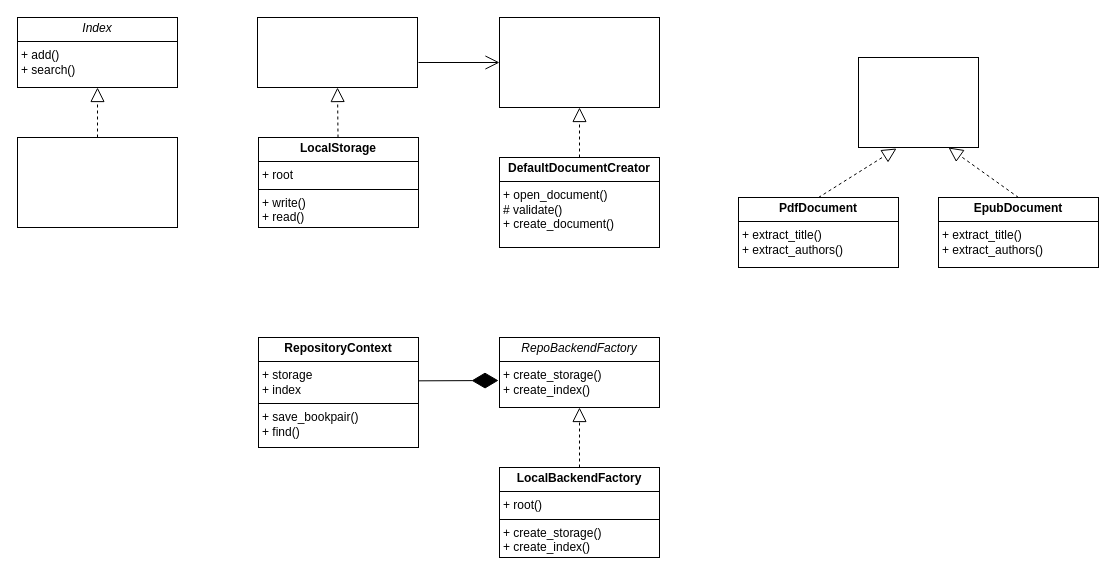
This 1116x575 diagram has some shape labels left out. The shapes that lost their labels are listed below. From the top down, each one's centre as x and y in pixels, then its label:
At point (337, 52): "Storage + write() + read()".
At point (579, 62): "DocumentCreator + open # _validate + create_document()".
At point (918, 102): "Document + path + extract_title() + extract_authors()".
At point (97, 182): "InMemory + _docs + add() + search()".
